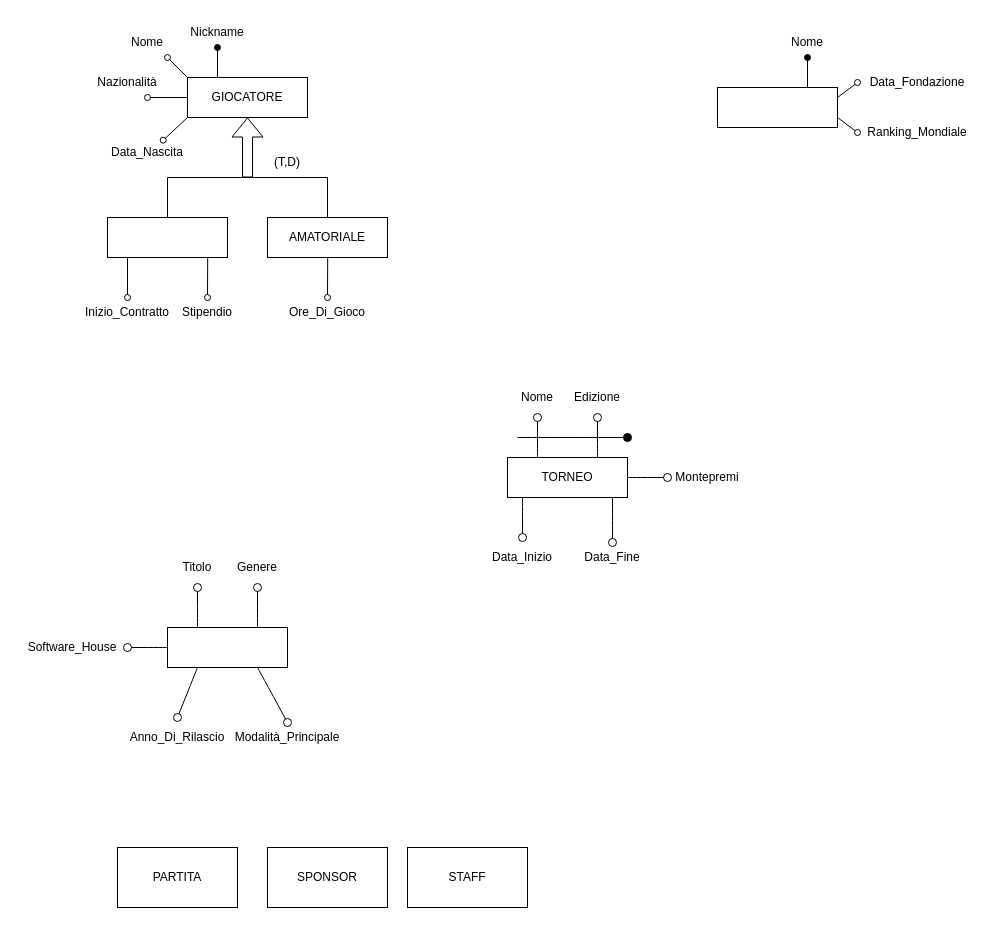
This 994x925 diagram has some shape labels left out. The centre of each missing label's shape, as x and y in pixels:
PROFESSIONALE: [167,237]
SQUADRA: [777,107]
VIDEOGIOCO: [227,647]
